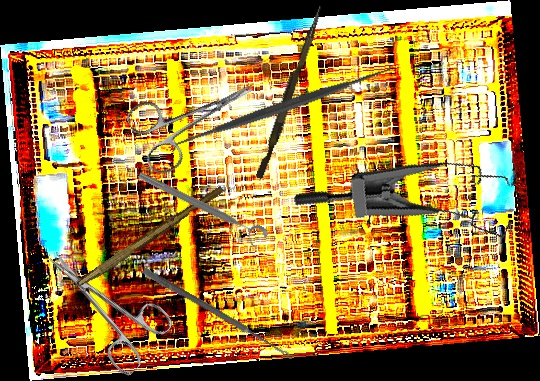Fixation Ring: (132, 168, 270, 251)
Iris Scissors: (28, 227, 180, 379), (122, 55, 271, 180)
Pusher: (255, 3, 324, 181)
Scalpel Handle: (76, 182, 225, 292)
Spatula Surgical: (166, 57, 396, 159)
Speculum: (291, 124, 536, 297)
Surgical Spoon: (141, 267, 295, 361)
